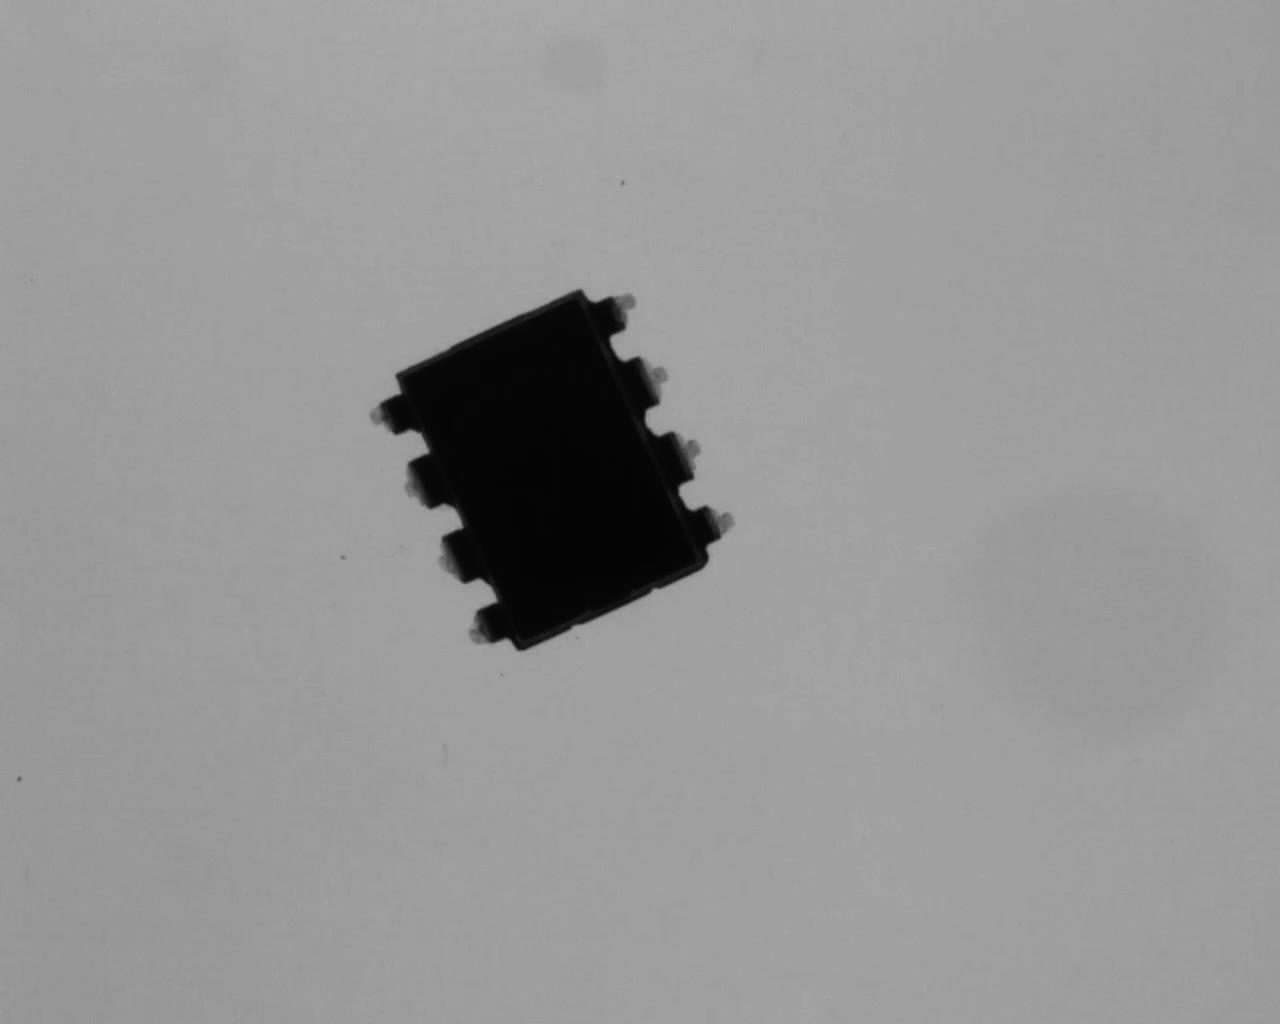Leg: (422, 526, 490, 588), (383, 451, 453, 511), (452, 597, 516, 650), (616, 351, 675, 408), (364, 388, 424, 441), (655, 421, 711, 479), (586, 287, 641, 342), (691, 497, 745, 545)
